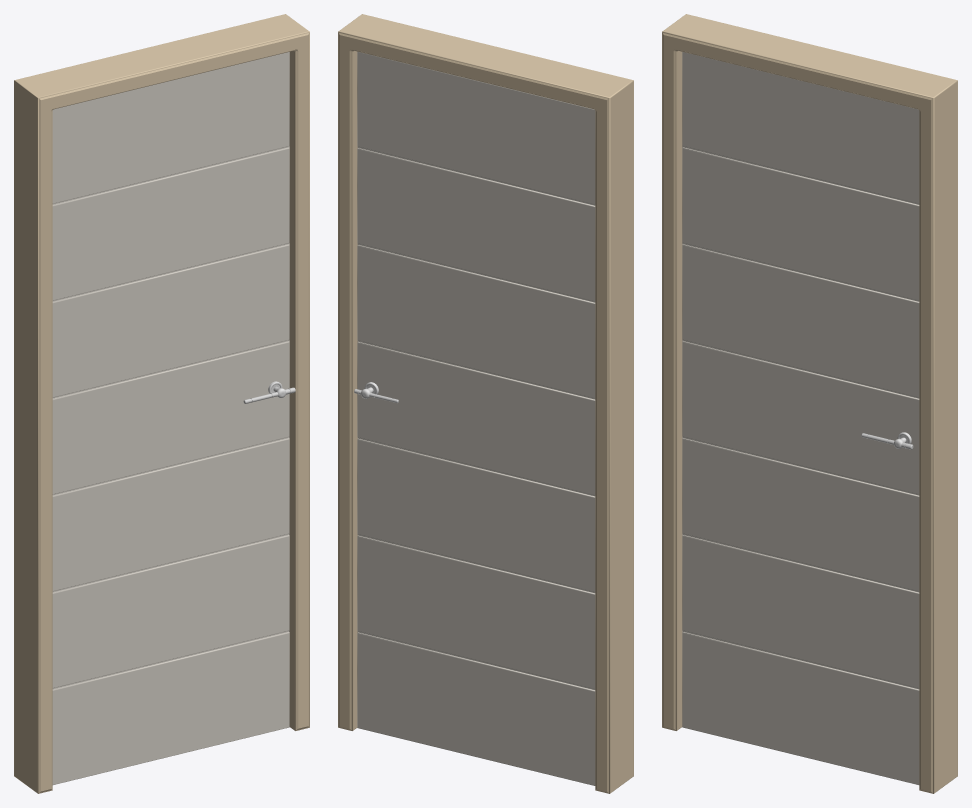
The model's file is door.glb.
The picture shows the model from 3 angles, left to right: view 1: azimuth 30°, elevation 25°; view 2: azimuth 150°, elevation 25°; view 3: azimuth 330°, elevation 25°; orthographic projection.
Parts seen in each view (by area): view 1: Group1, Group4; view 2: Group1, Group4; view 3: Group1, Group4.
Part boxes in pixels (box(x1,y1,x2,y2)): Group1: box(52, 52, 289, 784); Group4: box(14, 14, 309, 793); Group1: box(357, 51, 595, 785); Group4: box(338, 14, 633, 793); Group1: box(682, 52, 919, 784); Group4: box(662, 14, 957, 793).
Size of the model in its own units: 90 by 220 by 19.71.
